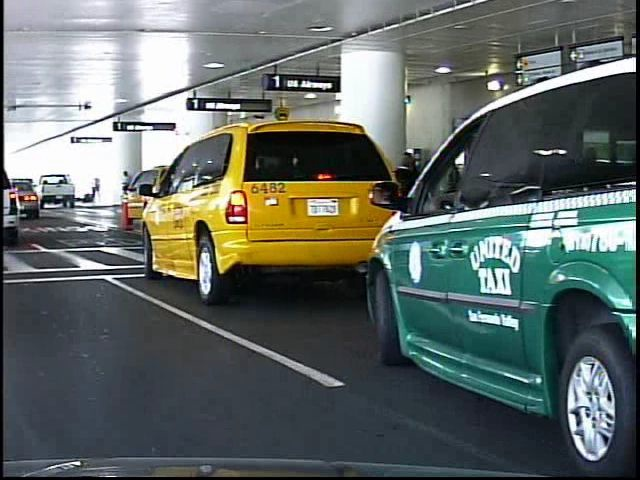person: (114, 169, 130, 208)
